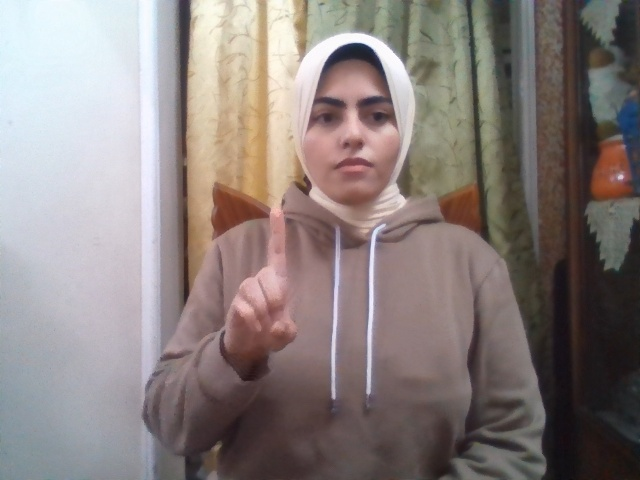D: (226, 207, 297, 353)
